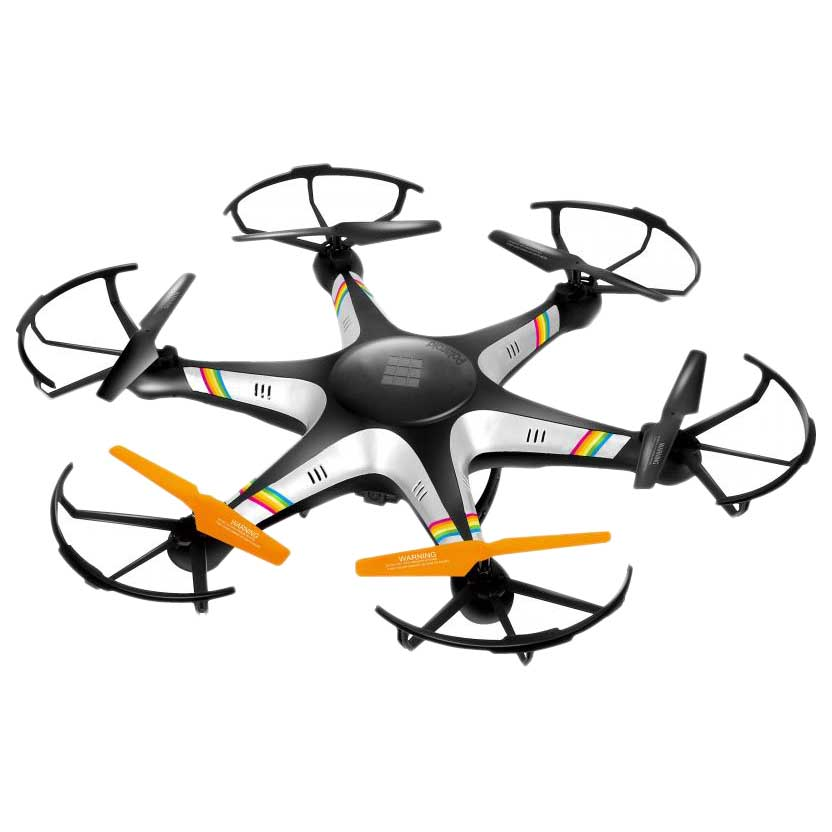drone: (12, 154, 821, 672)
